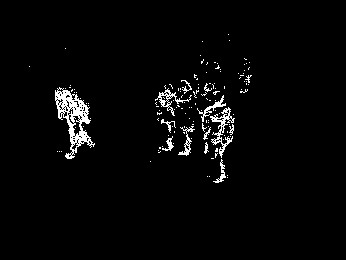person: (202, 91, 235, 184), (54, 88, 95, 160), (176, 79, 197, 156), (155, 84, 177, 152)
